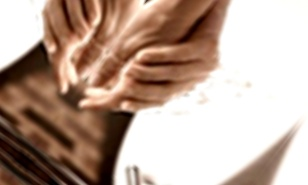washing hand: (54, 0, 256, 183)
